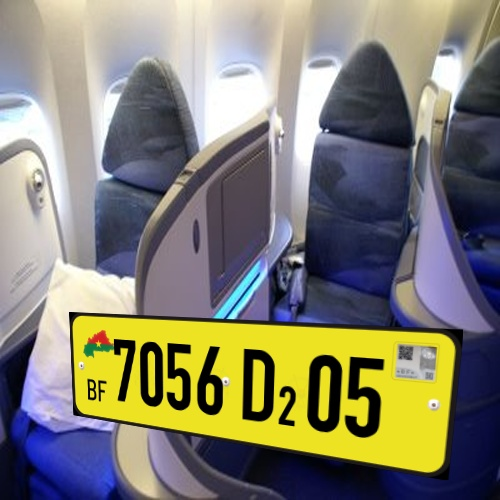plate: (60, 297, 467, 484)
